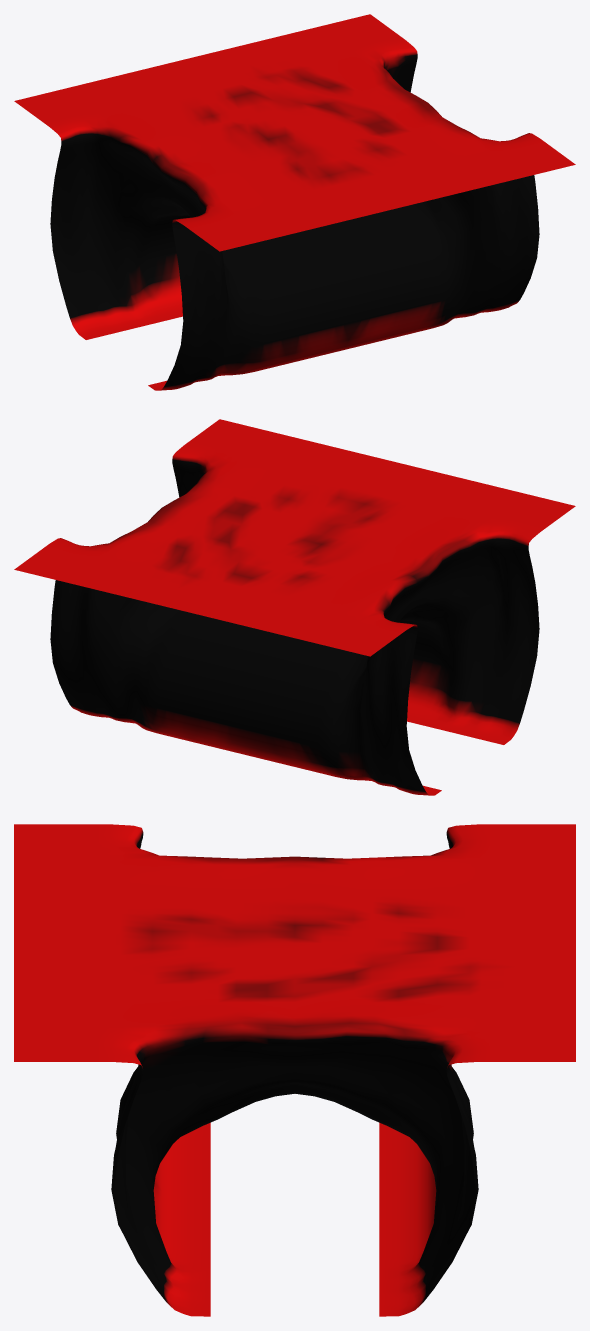
File: CrossingCliff03A 2M Foreground.fbx
3 views of the same model, one above another, from view 1: azimuth 30°, elevation 25°; view 2: azimuth 150°, elevation 25°; view 3: azimuth 270°, elevation 25° (orthographic). The views are drawn at different scales.
Visible parts, largest first — view 1: CrossingCliff03A 2M Foreground; view 2: CrossingCliff03A 2M Foreground; view 3: CrossingCliff03A 2M Foreground.
Boxes of the visible parts, left/top/right/bottom form: CrossingCliff03A 2M Foreground: left=14, top=14, right=575, bottom=390; CrossingCliff03A 2M Foreground: left=14, top=419, right=575, bottom=795; CrossingCliff03A 2M Foreground: left=14, top=824, right=575, bottom=1316.
Size of the model in its own units: 4 by 2.01 by 4.
